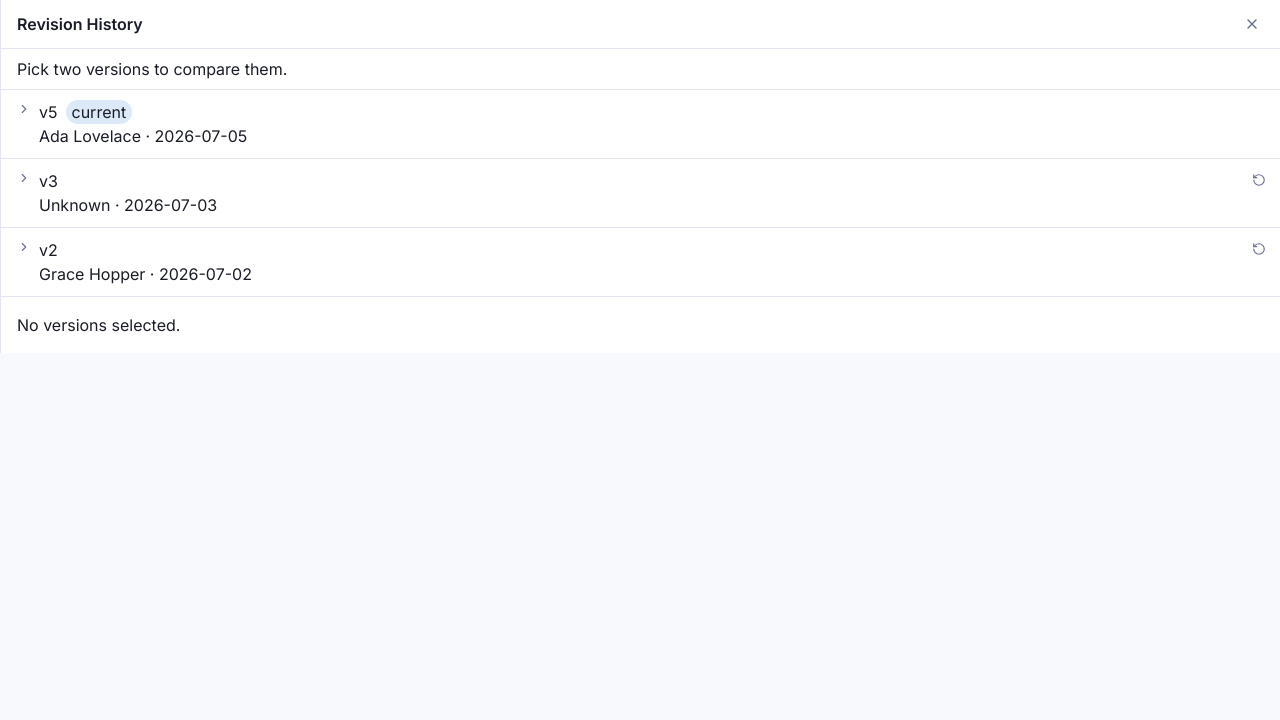
it: restoring › reports a no-op restore as the success it is, with the server’s sentence
Click the button named "Restore version 2": [1259, 249] box x1=1246 y1=236 x2=1272 y2=262
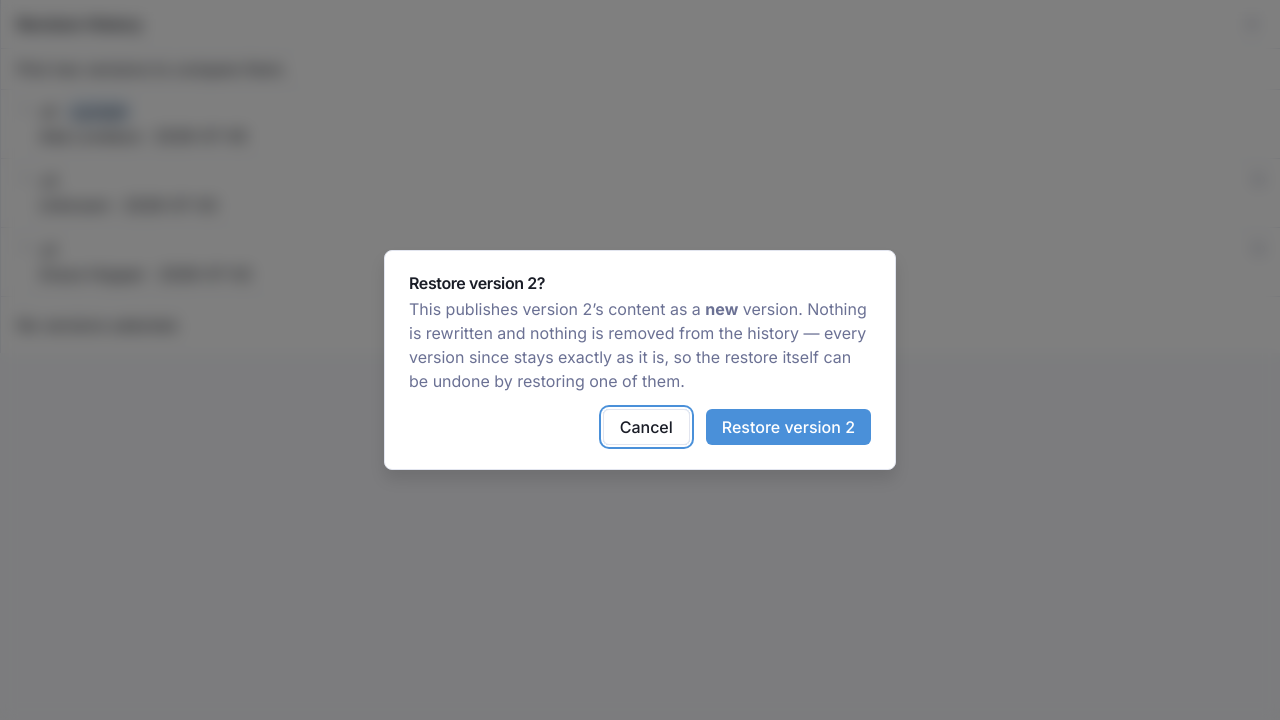
Click the button with test id "codex-restore-confirm": [788, 427] box x1=706 y1=409 x2=871 y2=445
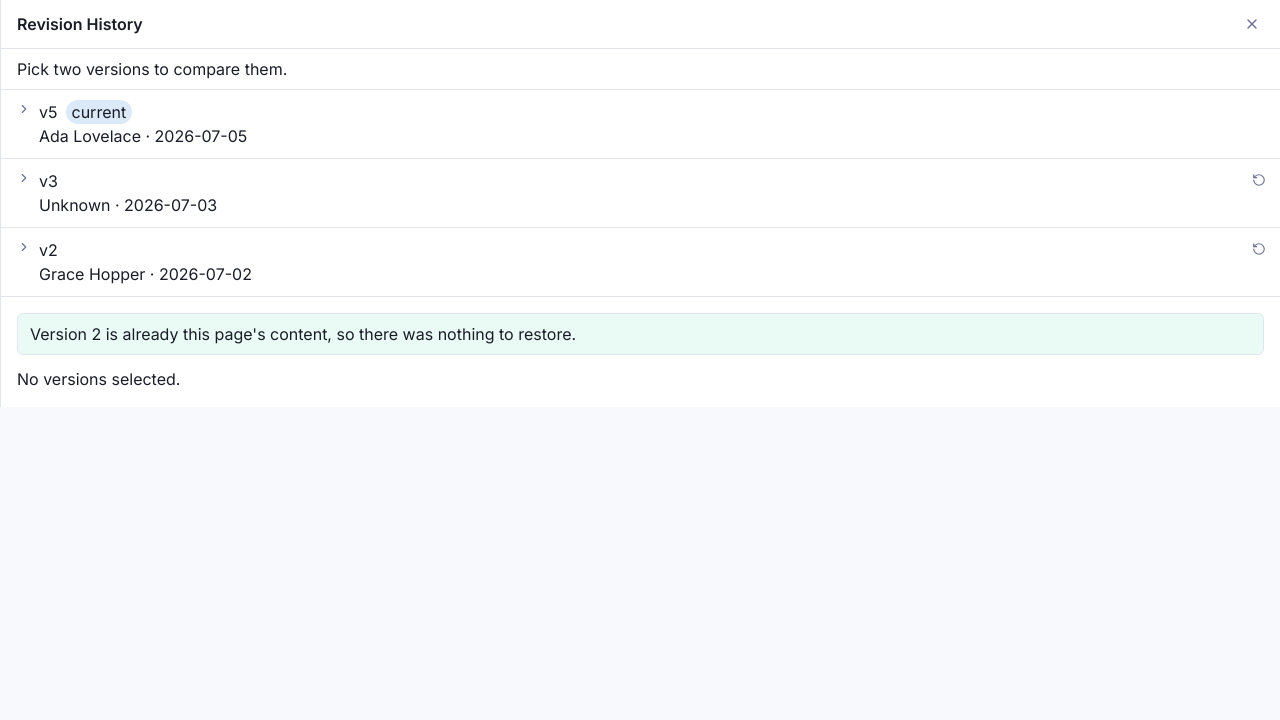
Now the message with test id "codex-restore-notice" shows "there was nothing to restore", box x1=30 y1=324 x2=576 y2=344
